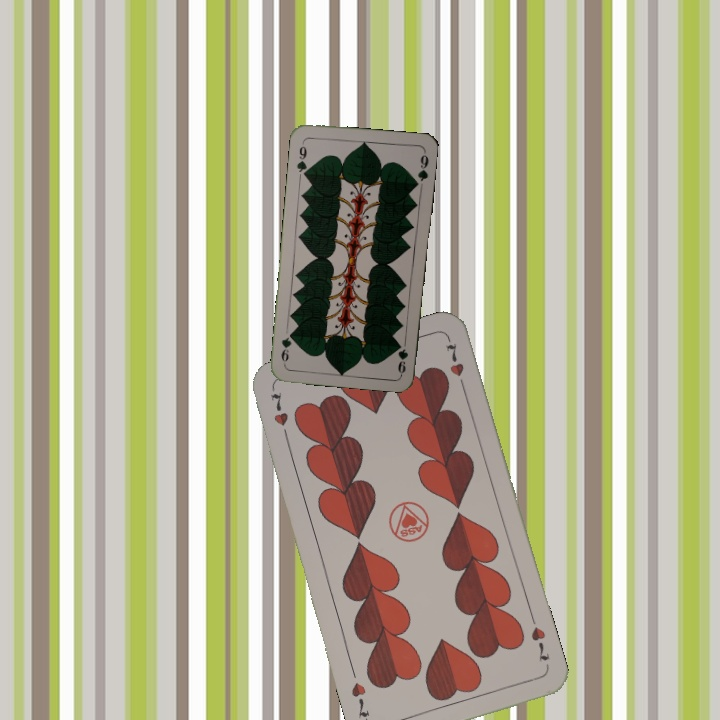G9: (292, 138, 310, 179), (394, 341, 410, 376)
H7: (266, 388, 292, 445), (527, 622, 552, 665)
